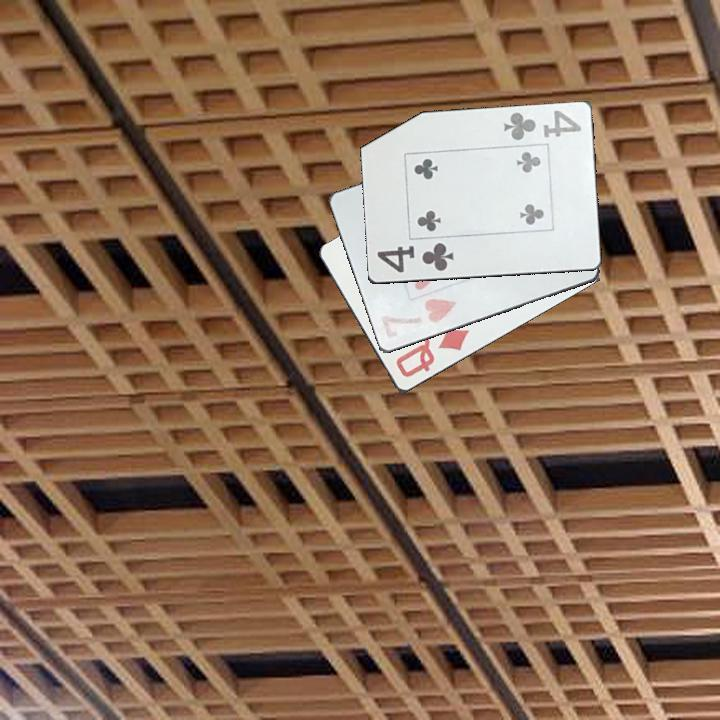4c: (500, 107, 584, 143), (374, 240, 456, 276)
7h: (377, 295, 459, 342)
Qd: (392, 324, 472, 381)
